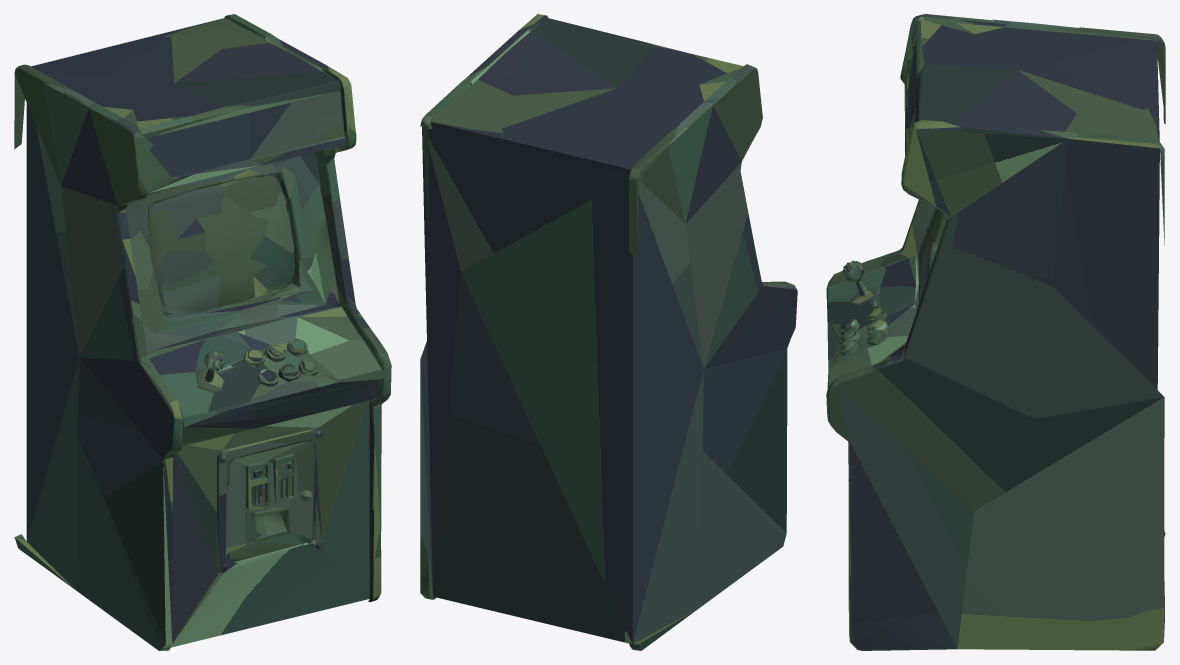
The model's file is cab2.glb.
3 views of the same model, side by side, from view 1: azimuth 30°, elevation 25°; view 2: azimuth 150°, elevation 25°; view 3: azimuth 270°, elevation 25° (orthographic). The views are drawn at different scales.
Parts seen in each view (by area): view 1: Mesh_0; view 2: Mesh_0; view 3: Mesh_0.
Part boxes in pixels (x1,y1,x2,y2): Mesh_0: [14, 14, 391, 650]; Mesh_0: [420, 14, 797, 650]; Mesh_0: [826, 14, 1165, 650].
Size of the model in its own units: 0.8609 by 1.9 by 1.11.
1 material, 1 textured.
